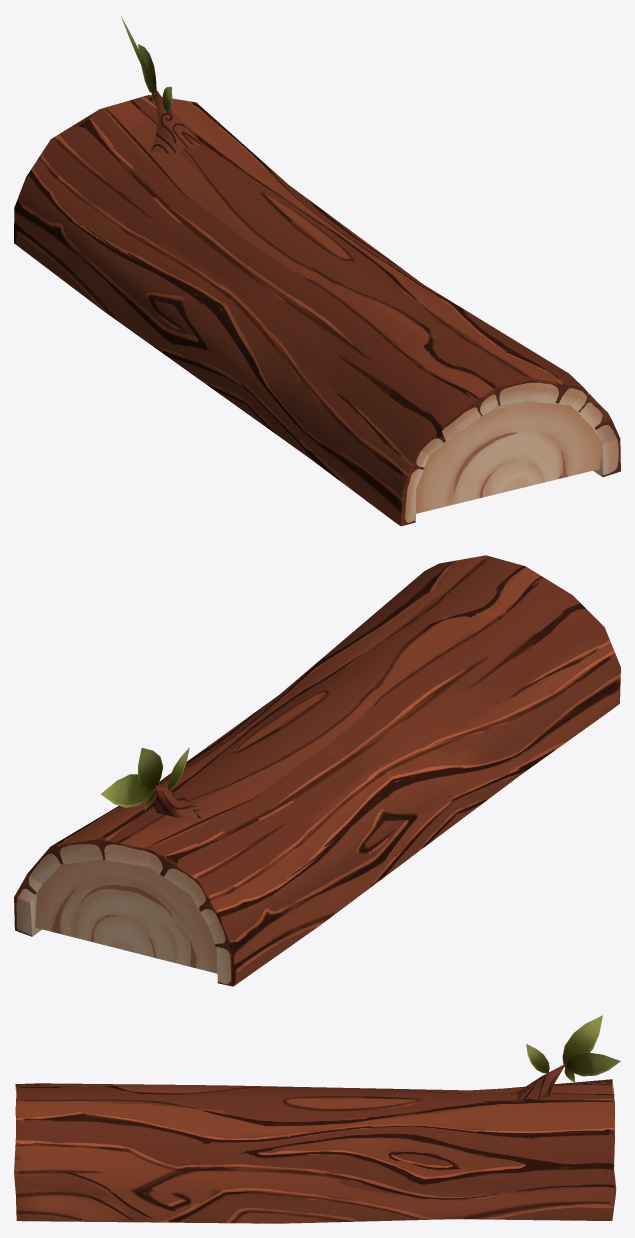
File: log2_LOD0.fbx
3 views of the same model, one above another, from view 1: azimuth 30°, elevation 25°; view 2: azimuth 150°, elevation 25°; view 3: azimuth 270°, elevation 25° (orthographic). The views are drawn at different scales.
Visible parts, largest first — view 1: SM_Buche; view 2: SM_Buche; view 3: SM_Buche.
Boxes of the visible parts, x1,y1,x2,y2 form: SM_Buche: [14, 15, 620, 526]; SM_Buche: [14, 555, 620, 986]; SM_Buche: [14, 1015, 620, 1223].
Bounding box in the file's own units: 21.75 × 20.13 × 67.46.
1 material, 1 textured.
